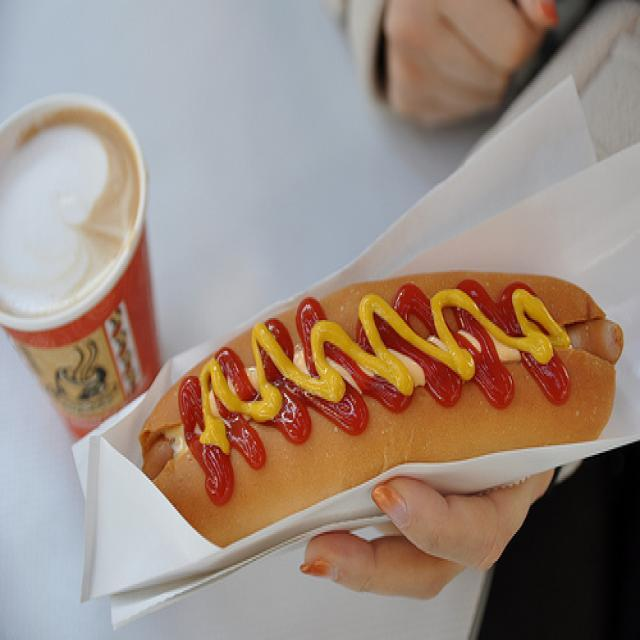Hot Dog: (130, 264, 630, 518)
